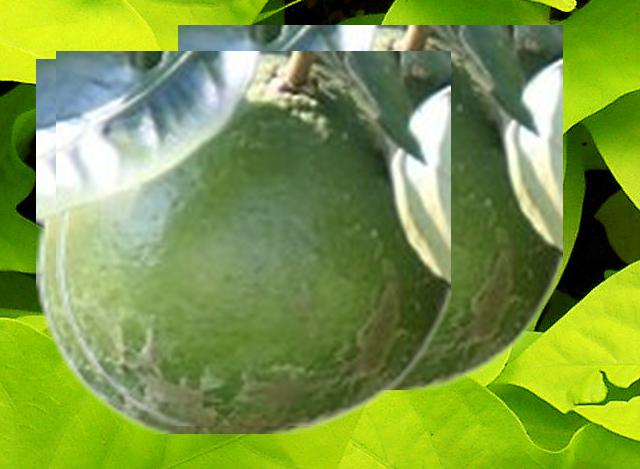dalandan: (56, 51, 449, 424), (178, 25, 561, 388), (36, 59, 362, 432)
